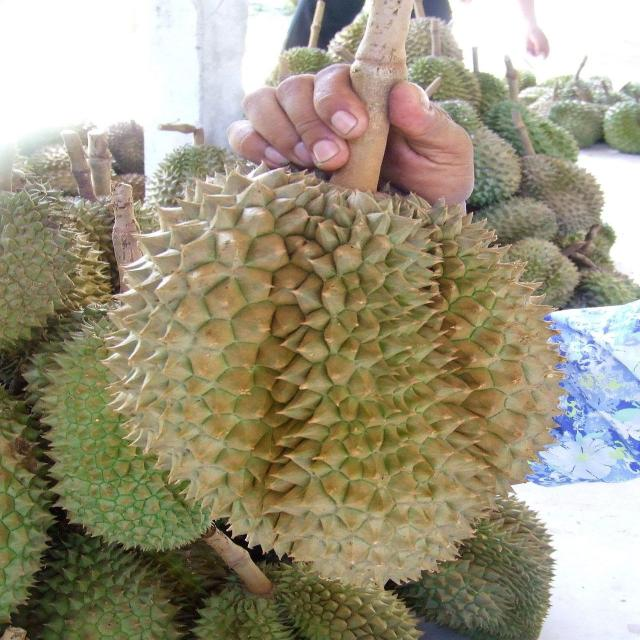mature: (103, 166, 574, 594)
